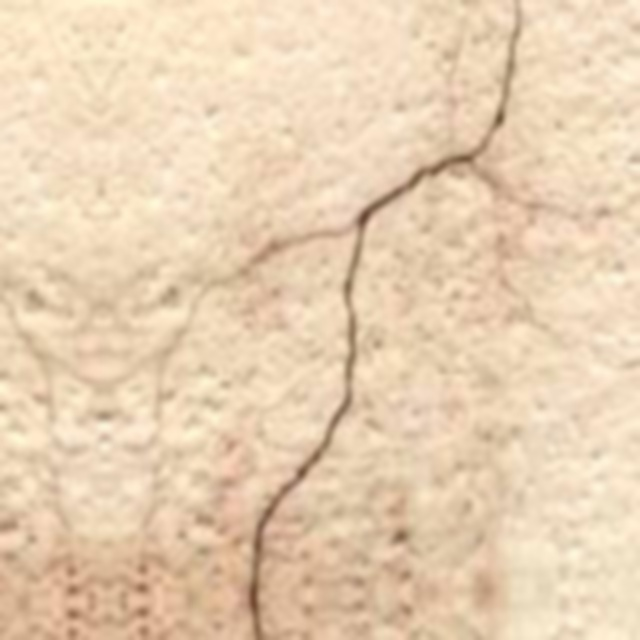SurfaceCrack: (212, 0, 536, 640)
